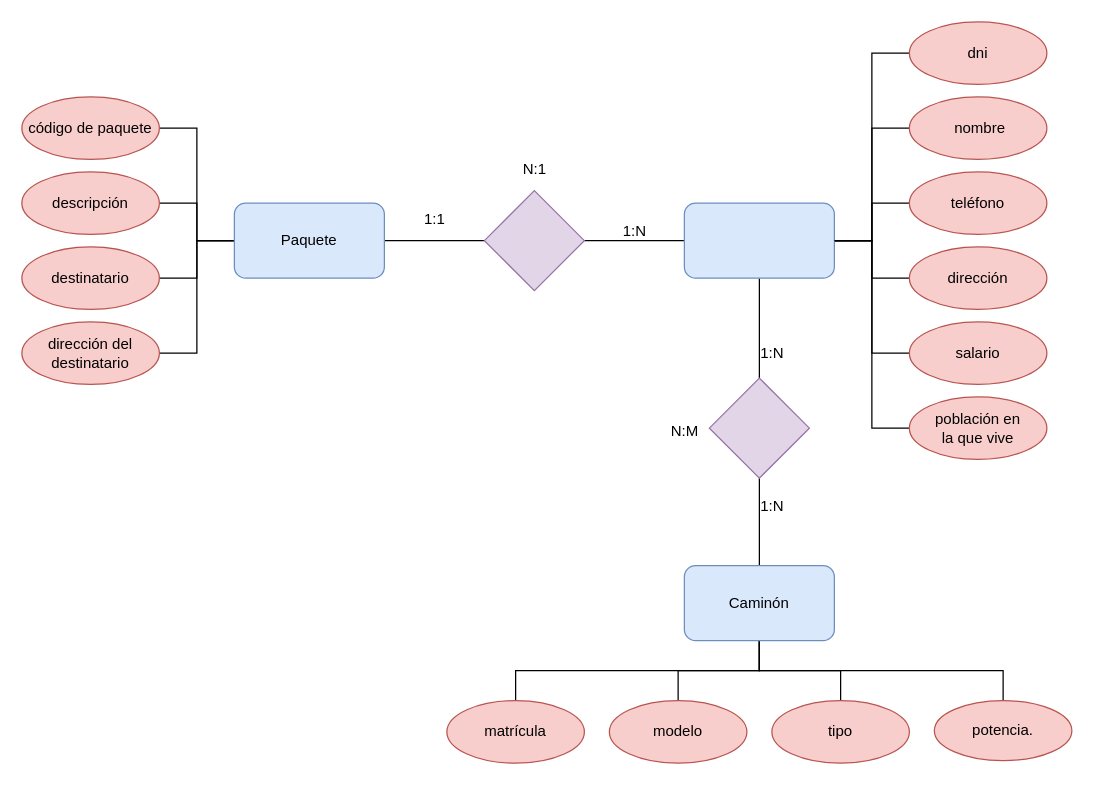
The diagram is 1094 pixels wide and 785 high, and some of its shapes have lost their labels. The shapes that lost their labels are listed below. From the top down, each one's centre as x and y in pixels, then its label:
At pixel 533 240: "distribuye".
At pixel 758 240: "Camionero".
At pixel 758 427: "conduce".
